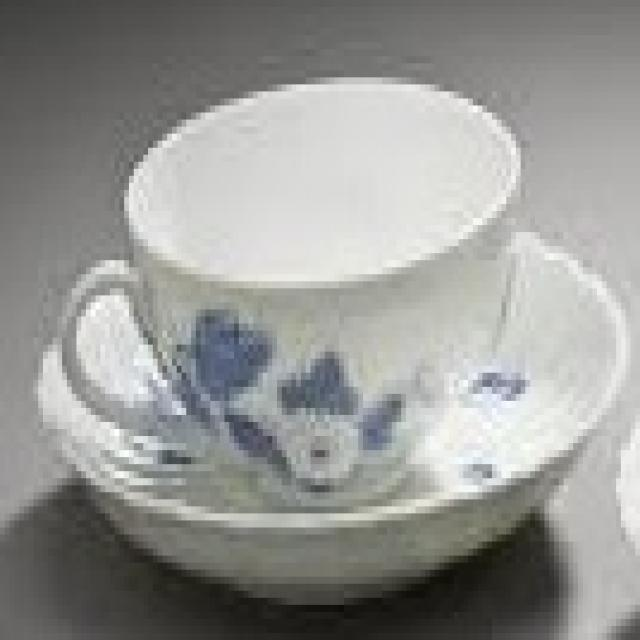taza: (48, 58, 529, 506)
